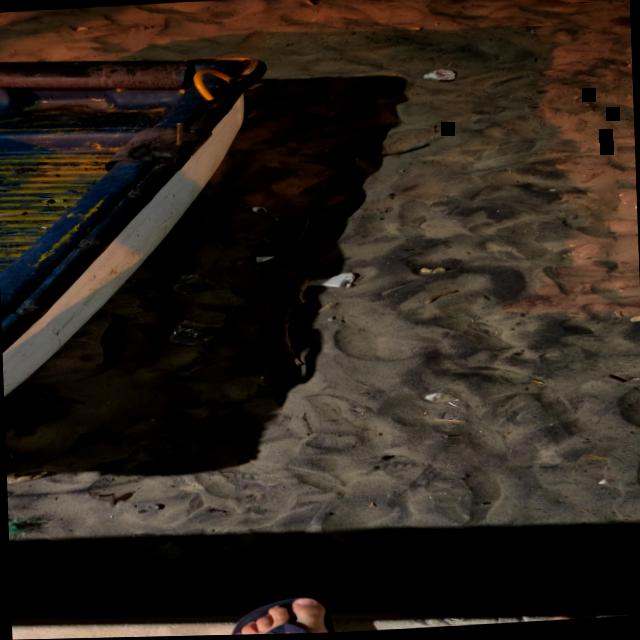Disposable plastic cup: (167, 320, 219, 346), (168, 273, 216, 293)
Rope - strings: (7, 517, 25, 535)
Unlabeled litter: (308, 273, 355, 288), (255, 256, 274, 263)
